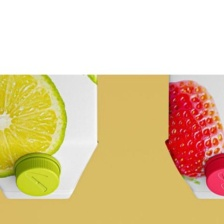carton: (0, 75, 102, 204), (162, 74, 224, 202)
